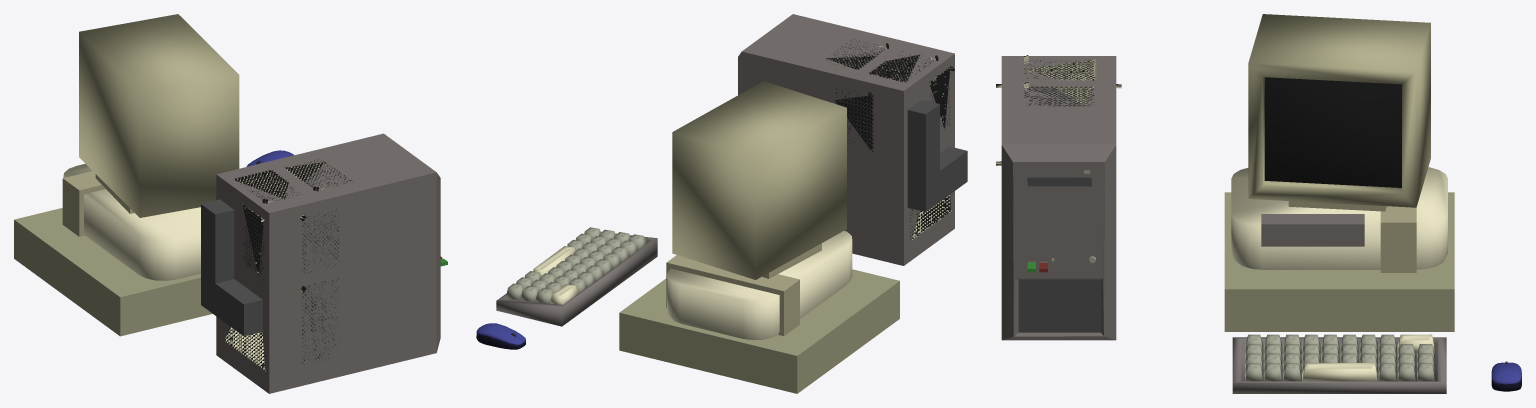
Rendered from Monitor_GDG1_NewProp.fbx.
The picture shows the model from 3 angles, left to right: view 1: azimuth 30°, elevation 25°; view 2: azimuth 150°, elevation 25°; view 3: azimuth 270°, elevation 25°; orthographic projection. The views are drawn at different scales.
Visible parts, largest first — view 1: Computer; view 2: Computer; view 3: Computer.
Part boxes in pixels (bbox=[...]): Computer: bbox=[14, 14, 447, 393]; Computer: bbox=[476, 14, 967, 393]; Computer: bbox=[996, 14, 1521, 393].
Size of the model in its own units: 560 by 377 by 748.
